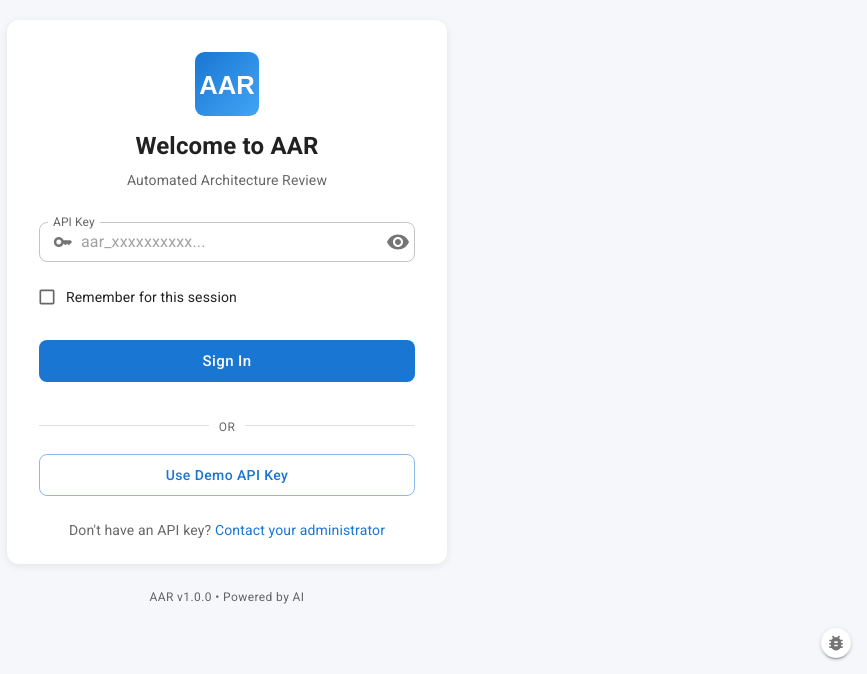
Scenario: Authentication › should show error for invalid API key
Type "invalid_key" into the password field labelled "API Key" at (226, 242), box [81,222,370,262]
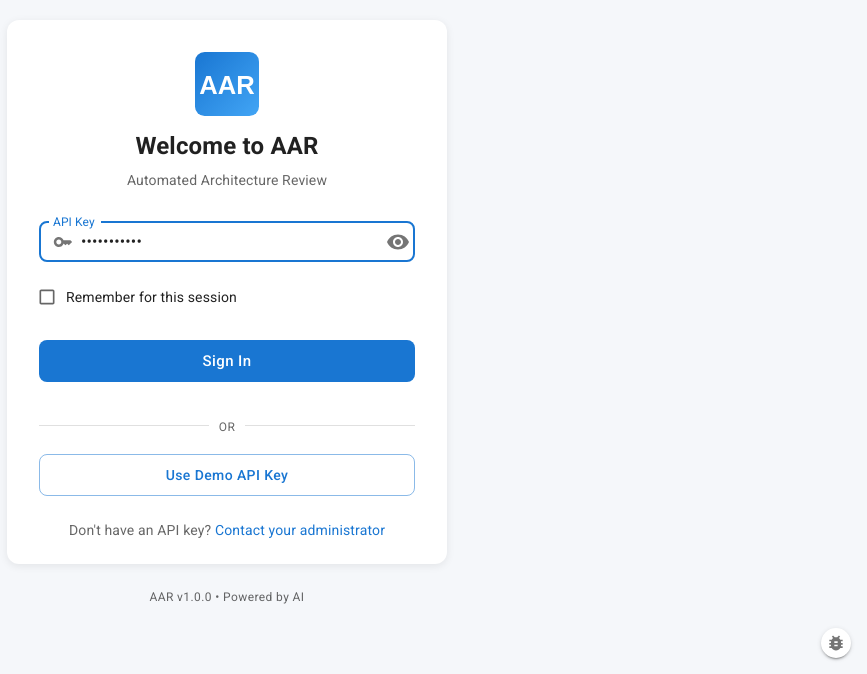
Click the button "Sign In" at (227, 361), box [39,340,415,382]
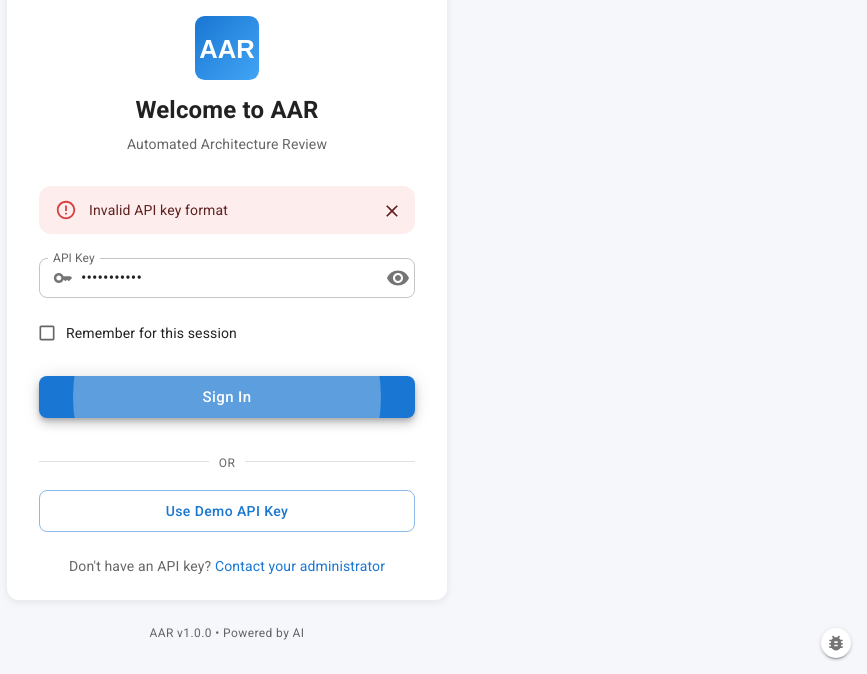
Expected: the text "Invalid API key" is shown, [89,202,228,218]
